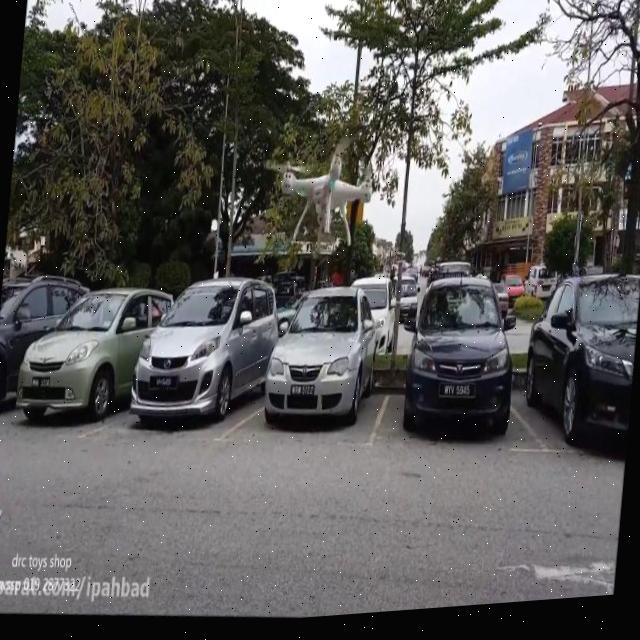drone: (269, 143, 377, 255)
